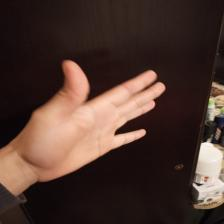five: (33, 60, 168, 164)
